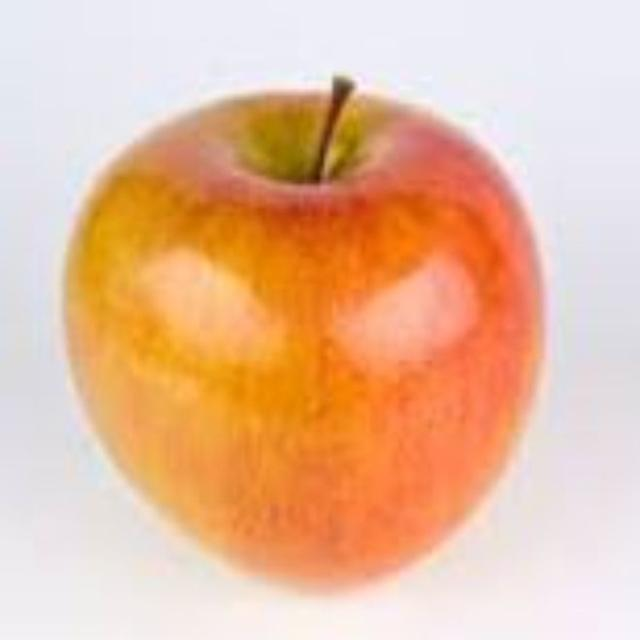Healty Apple: (57, 49, 538, 586)
